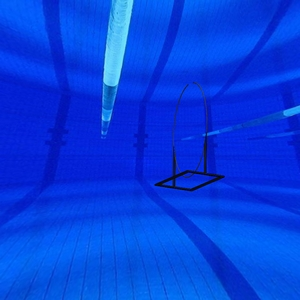circle: (154, 80, 226, 194)
